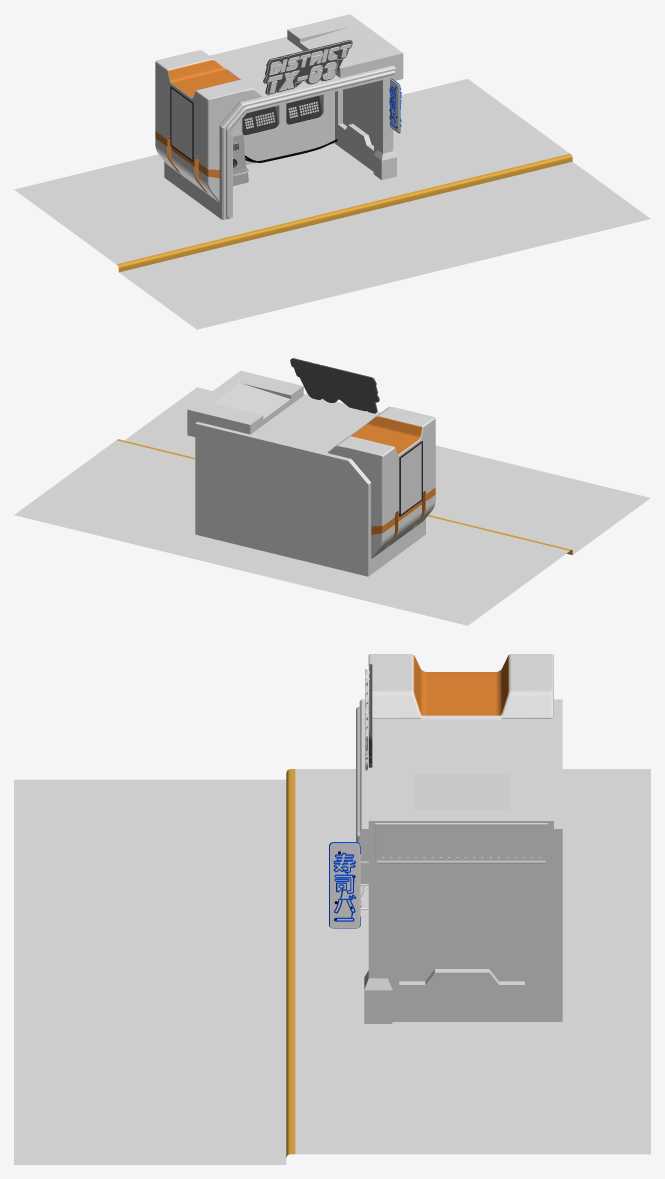
The model's file is PRUEBA 1.fbx.
3 views of the same model, one above another, from view 1: azimuth 30°, elevation 25°; view 2: azimuth 150°, elevation 25°; view 3: azimuth 270°, elevation 25° (orthographic). The views are drawn at different scales.
Visible parts, largest first — view 1: Plane, Plane.005, Plane.008, Plane.004, Plane.006, Curve.001, Cube.001, Plane.015, Curve.003, Plane.019, Curve.015, Cube.015 (+3 smaller); view 2: Plane, Plane.005, Plane.008, Plane.004, Curve.001, Cube.001; view 3: Plane, Plane.005, Plane.004, Plane.015, Plane.008, Plane.006, sign_neon_small_vert, Cube.009, Cube.013.
Boxes of the visible parts, <box> form: Plane: <box>14,79,650,329</box>; Plane.005: <box>164,37,395,219</box>; Plane.008: <box>155,50,262,201</box>; Plane.004: <box>287,14,403,80</box>; Plane.006: <box>373,77,396,179</box>; Curve.001: <box>263,39,352,95</box>; Cube.001: <box>170,86,193,161</box>; Plane.015: <box>343,82,373,145</box>; Curve.003: <box>268,43,350,92</box>; Plane.019: <box>226,70,395,218</box>; Curve.015: <box>267,44,351,93</box>; Cube.015: <box>286,95,321,124</box>; Plane: <box>14,387,650,625</box>; Plane.005: <box>195,394,425,576</box>; Plane.008: <box>328,407,435,558</box>; Plane.004: <box>187,371,303,436</box>; Curve.001: <box>290,358,379,413</box>; Cube.001: <box>399,441,422,516</box>; Plane: <box>14,769,650,1164</box>; Plane.005: <box>359,699,562,1021</box>; Plane.004: <box>368,767,553,865</box>; Plane.015: <box>399,865,524,981</box>; Plane.008: <box>368,654,553,719</box>; Plane.006: <box>364,865,392,1023</box>; sign_neon_small_vert: <box>329,842,368,928</box>; Cube.009: <box>375,823,547,863</box>; Cube.013: <box>375,824,546,863</box>.
Size of the model in its own units: 985 by 316 by 688.
